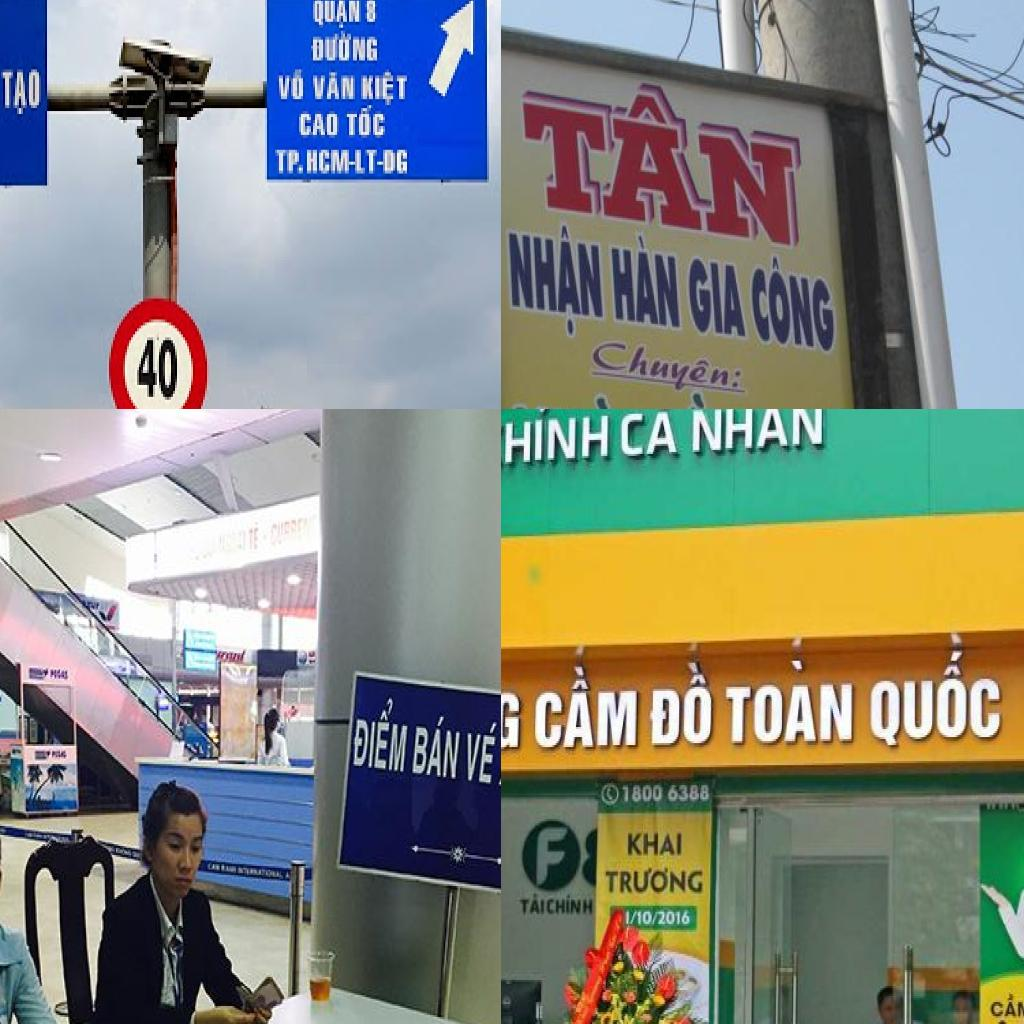text: (502, 59, 815, 256), (869, 647, 1005, 751), (501, 214, 610, 337), (725, 657, 858, 747), (532, 661, 640, 753), (748, 252, 840, 356), (588, 339, 755, 394), (608, 234, 686, 338), (690, 409, 825, 460), (687, 245, 755, 346), (501, 409, 610, 472), (647, 661, 716, 751), (348, 690, 414, 778), (408, 710, 464, 784), (509, 376, 633, 409), (604, 864, 706, 900), (135, 331, 183, 406), (619, 409, 680, 462), (309, 31, 383, 69), (461, 717, 501, 786), (535, 825, 571, 890), (621, 782, 711, 808), (1, 66, 43, 120), (361, 69, 409, 108), (311, 67, 357, 105), (311, 0, 363, 33), (347, 105, 389, 144), (627, 832, 684, 860), (305, 147, 351, 179), (623, 910, 693, 930), (297, 111, 341, 141), (546, 892, 595, 918), (275, 67, 307, 105), (990, 990, 1024, 1024), (273, 147, 307, 179), (383, 147, 411, 179), (518, 892, 546, 920), (355, 147, 379, 179), (365, 0, 379, 27), (349, 158, 357, 170), (377, 158, 385, 170)
